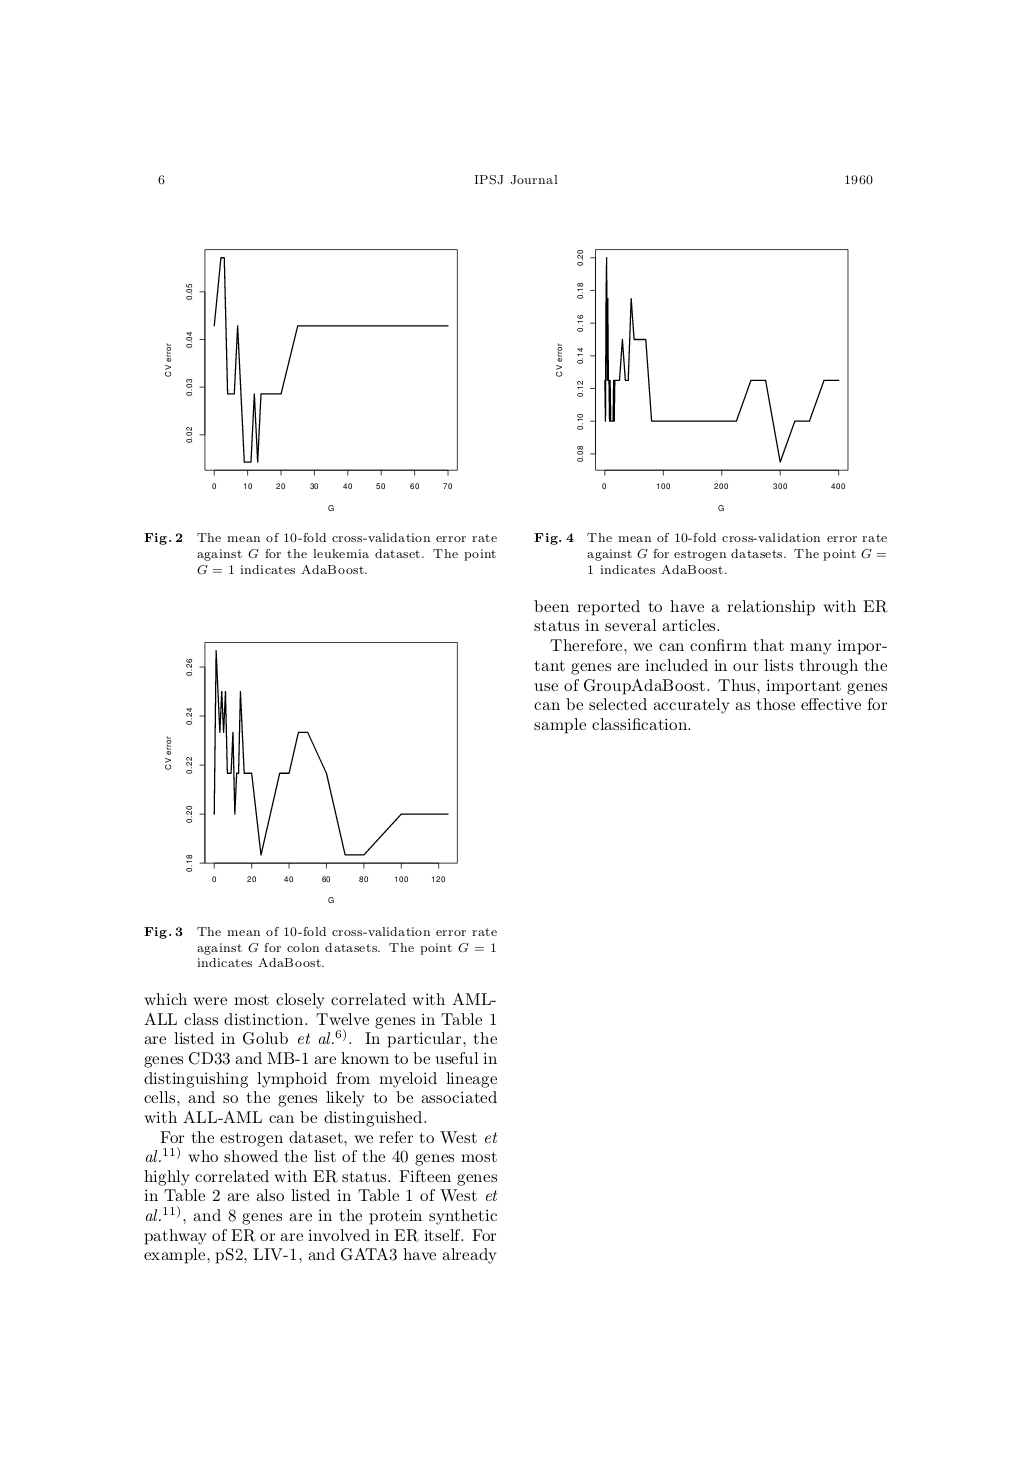figure: (163, 639, 457, 883), (163, 247, 457, 490), (555, 247, 848, 490)
